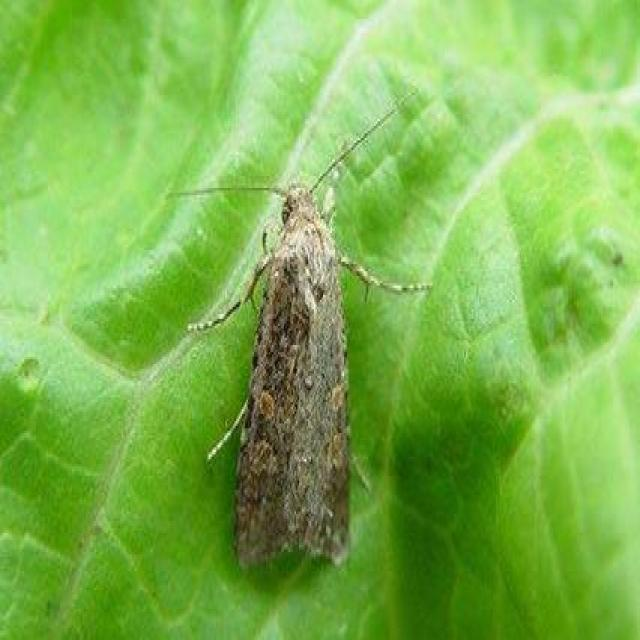armyworm: (226, 169, 403, 589)
